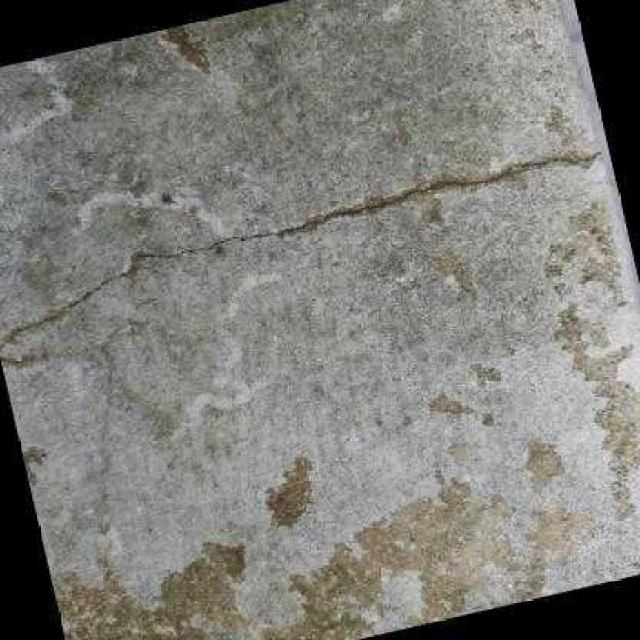D00: (4, 150, 592, 344)
